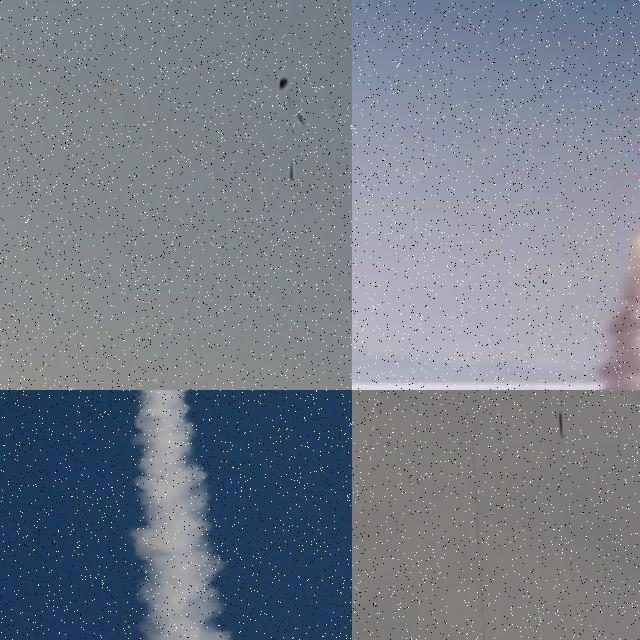Rocket: (290, 163, 293, 179)
